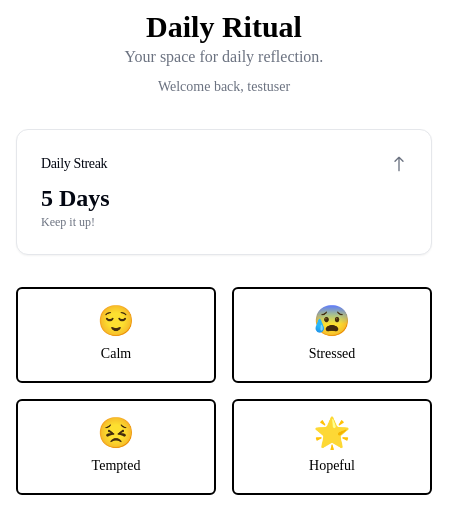
Scenario: DailyRitual Integration Tests › Test Scenario 4: API error displays error message › displays error alert when mood selection fails
Expected: the text "5 Days" is shown, x1=41 y1=185 x2=110 y2=211
// Click a specific mood button to avoid interference from other buttons
Click the button "😌 Calm".
click(116, 335)  # box x1=16 y1=287 x2=216 y2=383
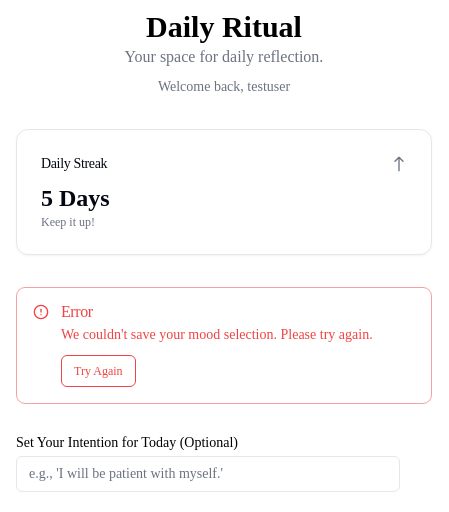
Now the text "We couldn't save your mood selection. Please try again." is shown, box x1=61 y1=324 x2=415 y2=347
